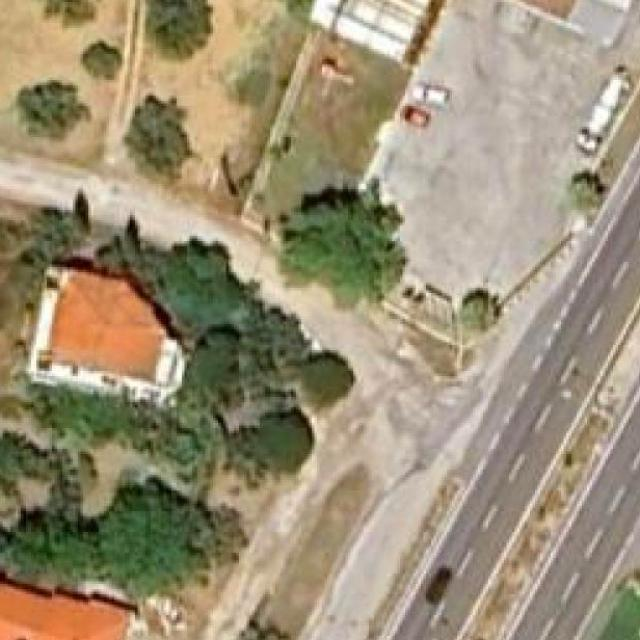Tree: (278, 179, 408, 303), (125, 95, 192, 184), (246, 407, 317, 470), (19, 80, 91, 140), (294, 350, 356, 411), (149, 0, 214, 52), (81, 42, 123, 86), (455, 288, 500, 329), (568, 172, 608, 216), (33, 0, 101, 25)
